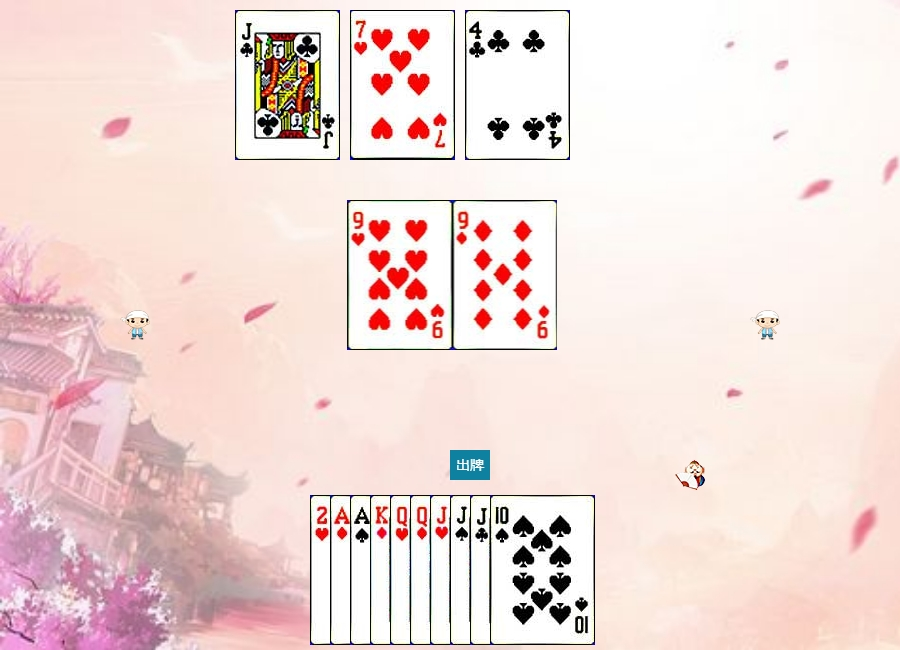10~4: (490, 495, 595, 645)
11~2: (235, 10, 340, 160), (470, 495, 575, 645)
11~3: (430, 495, 535, 645)
11~4: (450, 495, 555, 645)
12~1: (410, 495, 515, 645)
12~3: (390, 495, 495, 645)
13~1: (370, 495, 475, 645)
14~1: (330, 495, 435, 645)
14~4: (350, 495, 455, 645)
15~3: (310, 495, 415, 645)
4~2: (465, 10, 570, 160)
7~3: (350, 10, 455, 160)
9~1: (453, 200, 558, 350)
9~3: (348, 200, 453, 350)
